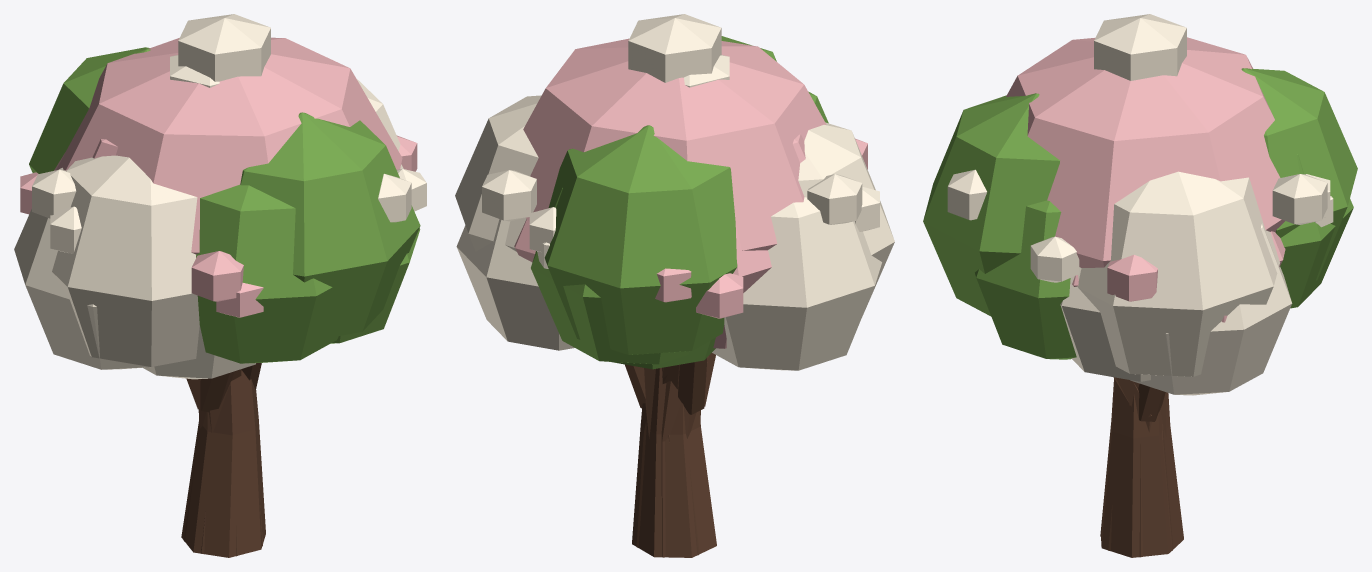
File: tree_apple_spring.glb
3 renders of one model, left to right at view 1: azimuth 30°, elevation 25°; view 2: azimuth 150°, elevation 25°; view 3: azimuth 270°, elevation 25°, orthographic.
Visible parts, largest first — view 1: Apple_low_crown_canopy.002, Apple_round_lobe_canopy.010, Apple_round_lobe_canopy.011, Apple_round_lobe_canopy.003, Apple_short_trunk.002, Apple_round_lobe_canopy.002, Apple_blossom.020, Apple_round_lobe_canopy.009, Apple_blossom.018, Apple_round_lobe_canopy.006, Apple_blossom.017, Apple_blossom.019 (+10 smaller); view 2: Apple_round_lobe_canopy.009, Apple_low_crown_canopy.002, Apple_round_lobe_canopy.002, Apple_short_trunk.002, Apple_round_lobe_canopy.004, Apple_round_lobe_canopy.008, Apple_blossom.020, Apple_round_lobe_canopy.001, Apple_round_lobe_canopy.010, Apple_blossom.015, Apple_blossom.017, Apple_short_trunk (+8 smaller); view 3: Apple_low_crown_canopy.002, Apple_round_lobe_canopy.008, Apple_round_lobe_canopy.011, Apple_short_trunk.002, Apple_round_lobe_canopy.009, Apple_round_lobe_canopy.007, Apple_round_lobe_canopy.004, Apple_blossom.020, Apple_round_lobe_canopy.001, Apple_round_lobe_canopy, Apple_blossom.015, Apple_blossom.014 (+4 smaller).
Part boxes in pixels (<box>): Apple_low_crown_canopy.002: <box>56,37,402,254</box>; Apple_round_lobe_canopy.010: <box>52,155,199,366</box>; Apple_round_lobe_canopy.011: <box>240,112,420,339</box>; Apple_round_lobe_canopy.003: <box>196,184,338,363</box>; Apple_short_trunk.002: <box>181,370,265,557</box>; Apple_round_lobe_canopy.002: <box>14,167,149,369</box>; Apple_blossom.020: <box>178,14,270,81</box>; Apple_round_lobe_canopy.009: <box>29,47,150,173</box>; Apple_blossom.018: <box>191,251,243,301</box>; Apple_round_lobe_canopy.006: <box>143,325,255,379</box>; Apple_blossom.017: <box>32,169,76,218</box>; Apple_blossom.019: <box>378,173,411,222</box>; Apple_round_lobe_canopy.009: <box>544,125,737,354</box>; Apple_low_crown_canopy.002: <box>523,38,826,250</box>; Apple_round_lobe_canopy.002: <box>712,197,881,370</box>; Apple_short_trunk.002: <box>632,368,716,557</box>; Apple_round_lobe_canopy.004: <box>456,219,574,350</box>; Apple_round_lobe_canopy.008: <box>455,95,541,251</box>; Apple_blossom.020: <box>628,14,721,82</box>; Apple_round_lobe_canopy.001: <box>531,188,689,364</box>; Apple_round_lobe_canopy.010: <box>798,122,894,314</box>; Apple_blossom.015: <box>482,170,536,221</box>; Apple_blossom.017: <box>807,174,862,224</box>; Apple_short_trunk: <box>636,381,700,557</box>; Apple_low_crown_canopy.002: <box>1006,37,1284,267</box>; Apple_round_lobe_canopy.008: <box>1077,171,1280,376</box>; Apple_round_lobe_canopy.011: <box>923,93,1059,316</box>; Apple_short_trunk.002: <box>1101,379,1183,557</box>; Apple_round_lobe_canopy.009: <box>1241,68,1357,280</box>; Apple_round_lobe_canopy.007: <box>975,200,1076,359</box>; Apple_round_lobe_canopy.004: <box>1130,223,1292,395</box>; Apple_blossom.020: <box>1094,14,1186,80</box>; Apple_round_lobe_canopy.001: <box>1280,154,1353,308</box>; Apple_round_lobe_canopy: <box>1060,267,1150,381</box>; Apple_blossom.015: <box>1272,174,1327,224</box>; Apple_blossom.014: <box>1107,255,1157,301</box>.
Bounding box in the file's own units: 1.85 × 2.37 × 1.79.
